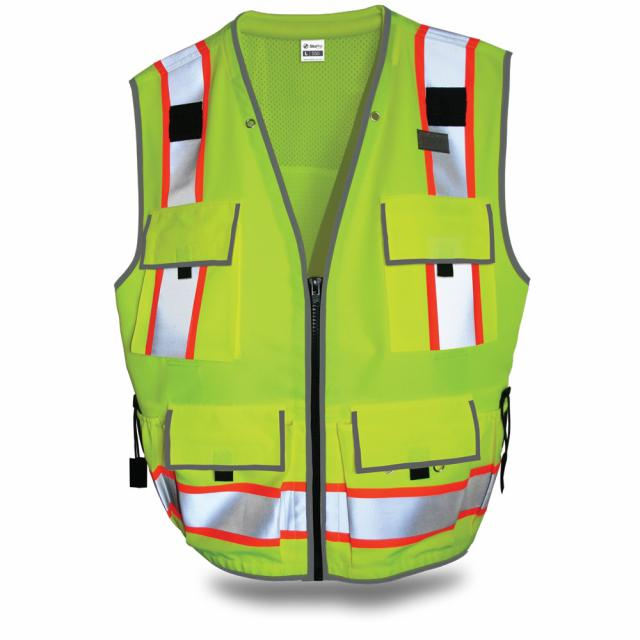Reflective-Jacket: (99, 9, 563, 614)
